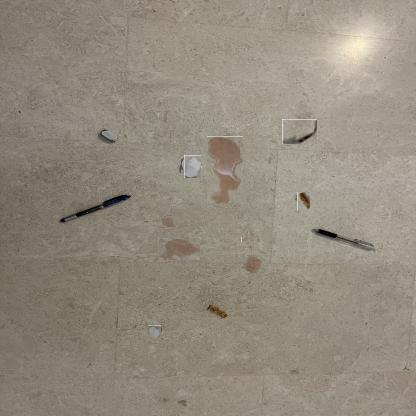dirty: (282, 119, 317, 144), (182, 156, 203, 177), (207, 306, 227, 318), (297, 192, 310, 210), (149, 325, 162, 338)
liquid: (207, 136, 243, 203), (158, 238, 200, 260), (244, 256, 260, 274), (161, 215, 175, 227), (245, 233, 257, 246), (264, 157, 272, 164)
